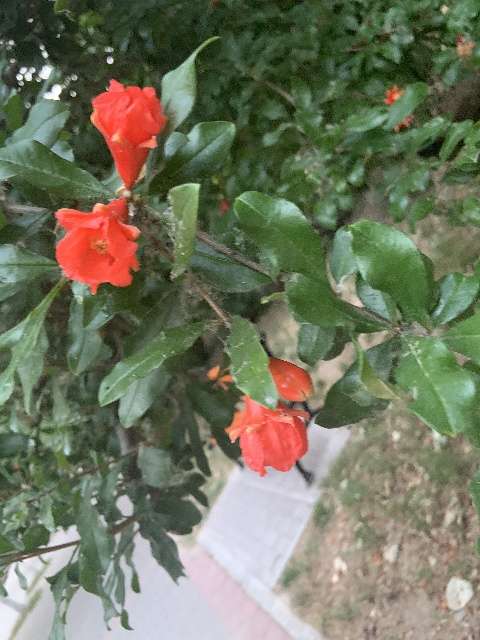bud: (268, 357, 313, 403)
flower: (90, 78, 168, 189), (53, 197, 141, 294), (230, 394, 309, 477), (384, 84, 403, 104)
